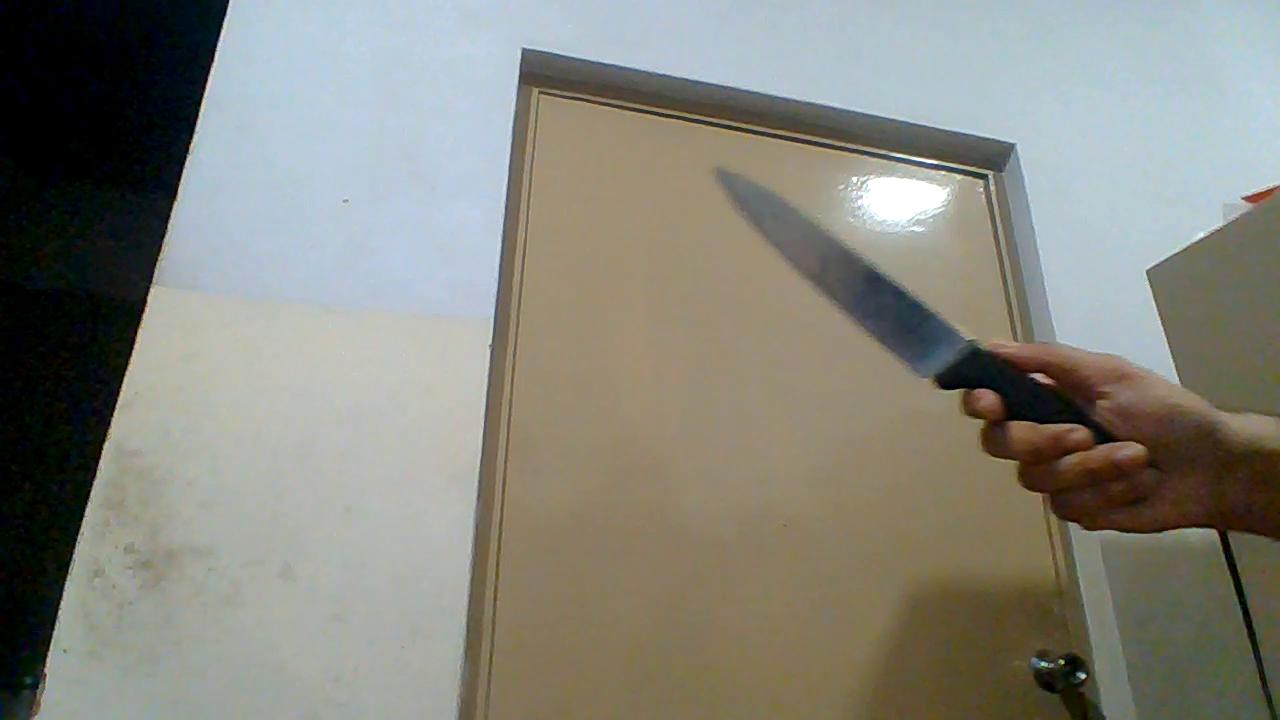weapon: (713, 167, 1102, 435)
